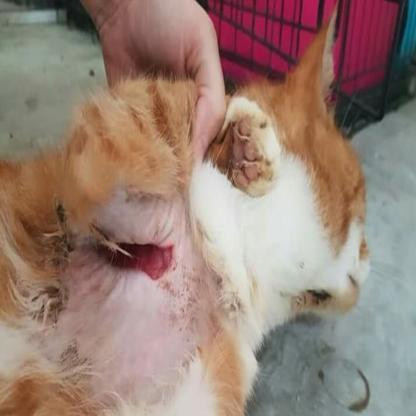cat: (0, 66, 388, 416)
injured: (89, 192, 197, 335)
